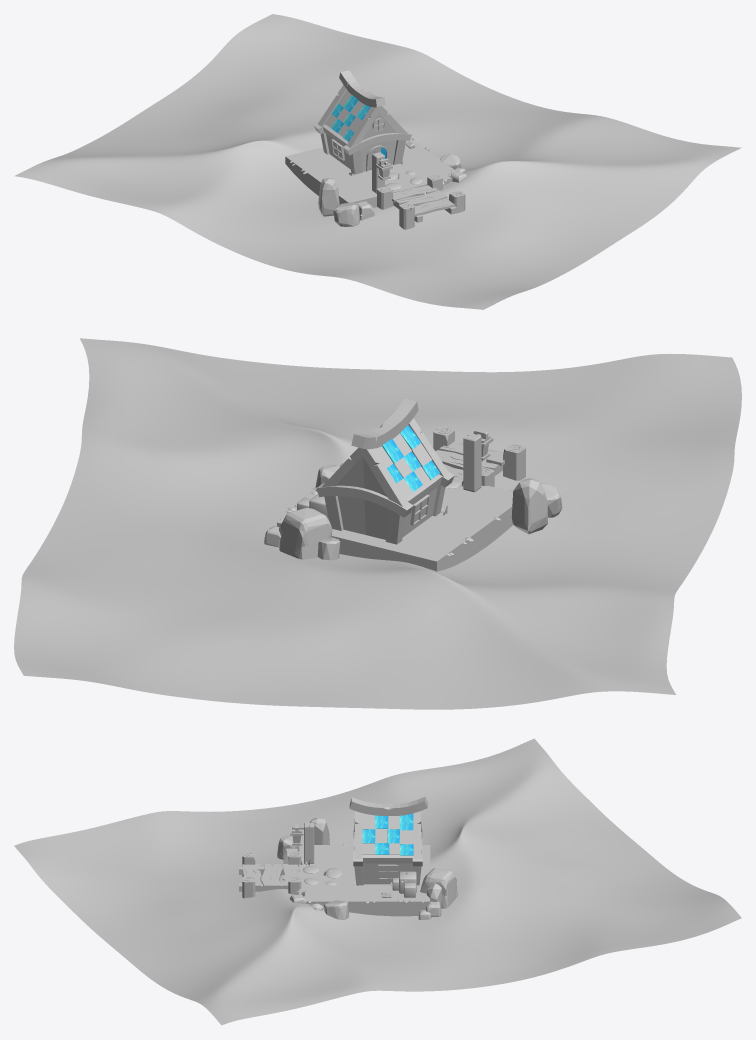
File: casa.obj
The picture shows the model from 3 angles, top to bottom: view 1: azimuth 30°, elevation 25°; view 2: azimuth 150°, elevation 25°; view 3: azimuth 270°, elevation 25°; orthographic projection. The views are drawn at different scales.
Parts seen in each view (by area): view 1: Sea_Plano.002, Base_Cubo.044, wood_Cubo.001, walls_Cubo, woodup_Cubo.004, Cubo.103_Cubo.118, Cubo.102_Cubo.117; view 2: Sea_Plano.002, Base_Cubo.044, wood_Cubo.001, walls_Cubo, Cubo.056_Cubo.071, Cubo.103_Cubo.118, woodup_Cubo.004, Cubo.046_Cubo.056, Cubo.045; view 3: Sea_Plano.002, Base_Cubo.044, wood_Cubo.001, woodup_Cubo.004, Cubo.056_Cubo.071, walls_Cubo.
Boxes of the visible parts, box(x1,y1,x2,y2) form: Sea_Plano.002: box(14, 14, 741, 309); Base_Cubo.044: box(285, 138, 456, 207); wood_Cubo.001: box(314, 85, 411, 174); walls_Cubo: box(326, 113, 396, 171); woodup_Cubo.004: box(339, 70, 385, 107); Cubo.103_Cubo.118: box(318, 178, 339, 216); Cubo.102_Cubo.117: box(333, 202, 360, 226); Sea_Plano.002: box(14, 338, 741, 709); Base_Cubo.044: box(277, 477, 513, 571); wood_Cubo.001: box(316, 418, 454, 544); walls_Cubo: box(337, 457, 437, 539); Cubo.056_Cubo.071: box(279, 508, 332, 559); Cubo.103_Cubo.118: box(511, 478, 547, 534); woodup_Cubo.004: box(351, 398, 418, 449); Cubo.046_Cubo.056: box(463, 433, 481, 492); Cubo.045: box(503, 444, 525, 480); Sea_Plano.002: box(14, 738, 741, 1025); Base_Cubo.044: box(299, 845, 430, 916); wood_Cubo.001: box(353, 811, 422, 885); woodup_Cubo.004: box(349, 797, 428, 815); Cubo.056_Cubo.071: box(420, 868, 457, 908); walls_Cubo: box(362, 813, 413, 884).
Bounding box in the file's own units: 6.27 × 1.01 × 6.72.
Materials: 13 (1 with a texture image).
